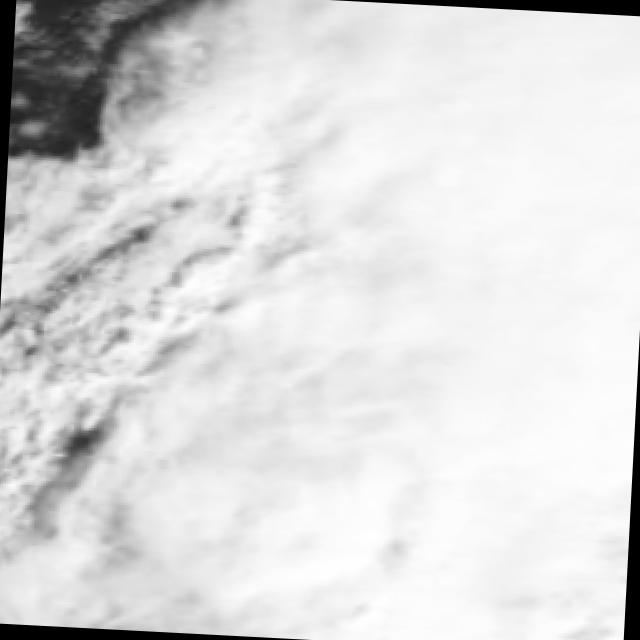CB: (348, 110, 618, 360), (331, 391, 599, 634), (152, 117, 355, 363), (355, 5, 640, 180), (124, 390, 337, 624)
